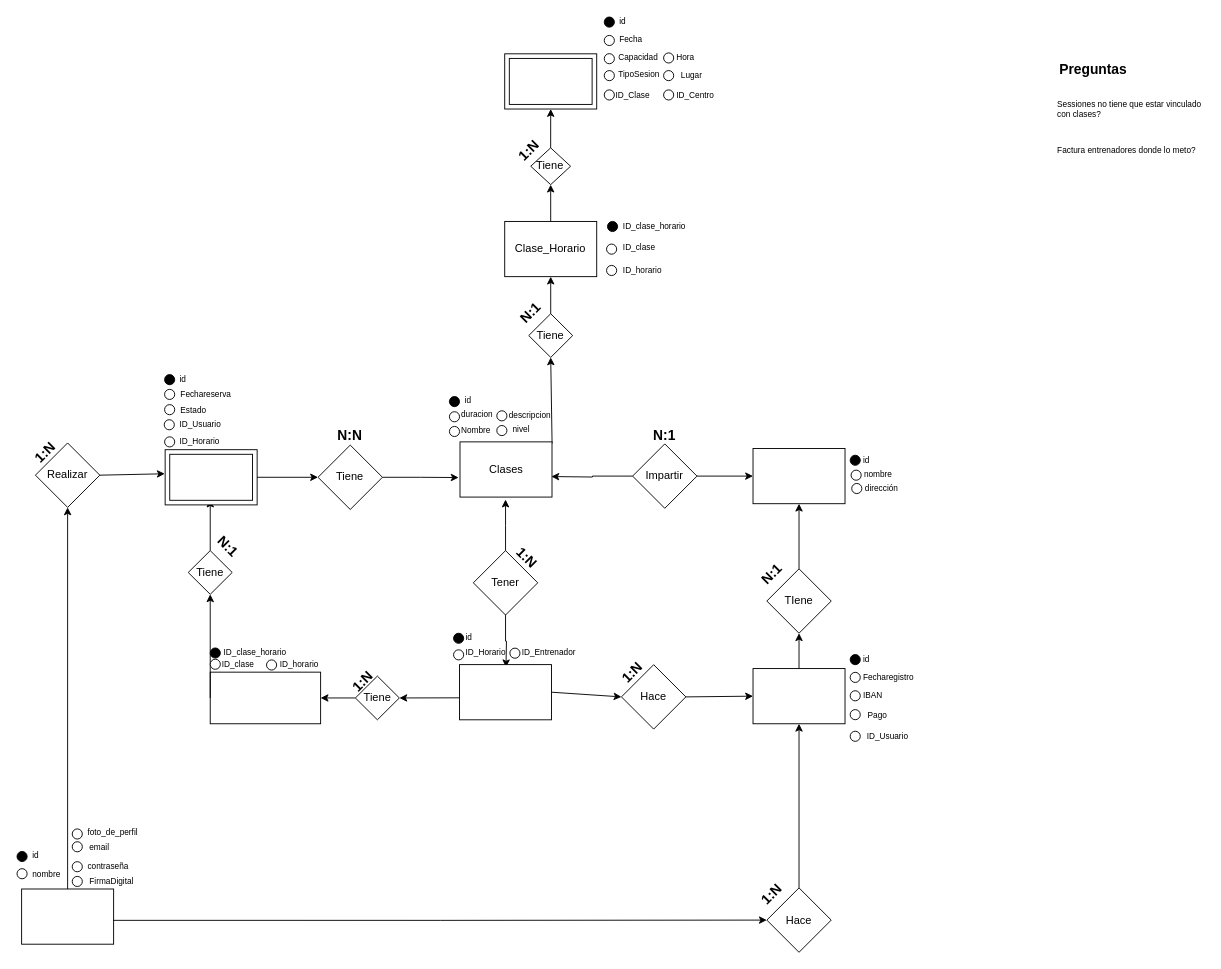
This 1221x969 diagram has some shape labels left out. Each missing label, with the centre of its shape:
"Centros" belongs at [798,476].
"Entrenadores" belongs at [505,692].
"HorariosClases" belongs at [550,81].
"Reserva_Entrenador" belongs at [265,697].
"reservas" belongs at [210,477].
"Sessiones" belongs at [798,696].
"usuarios" belongs at [67,916].
